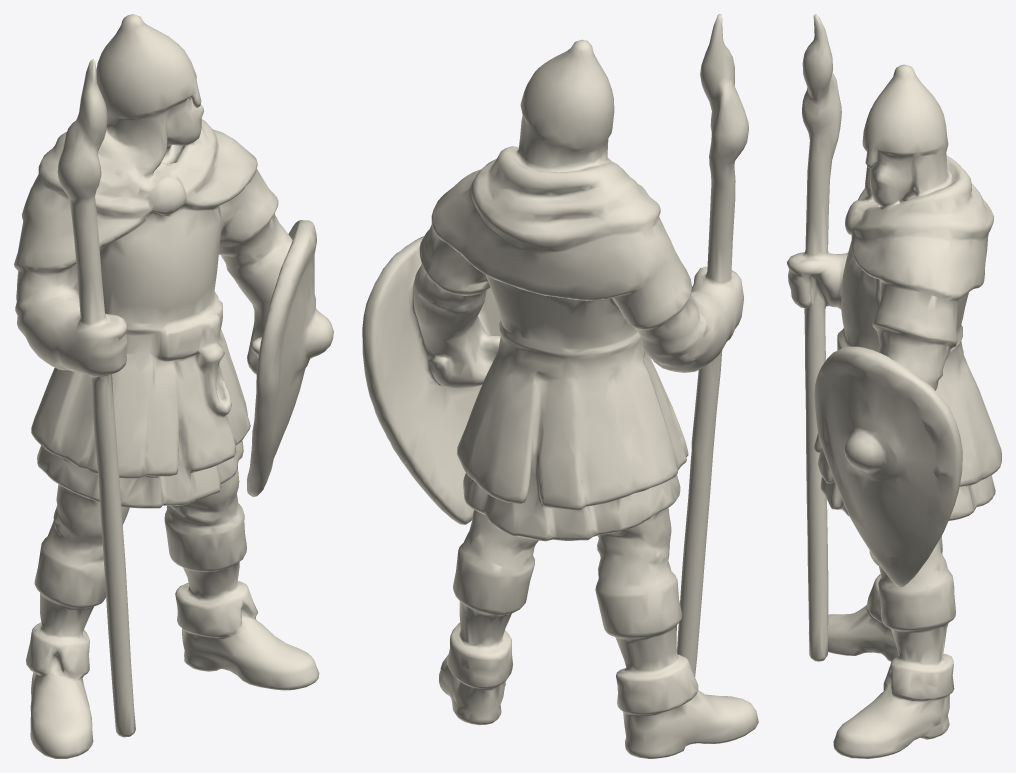
Rendered from ru-peshka.glb.
3 views of the same model, side by side, from view 1: azimuth 30°, elevation 25°; view 2: azimuth 150°, elevation 25°; view 3: azimuth 270°, elevation 25° (orthographic). The views are drawn at different scales.
Visible parts, largest first — view 1: world; view 2: world; view 3: world.
Boxes of the visible parts, <box> form: world: <box>14,14,333,758</box>; world: <box>362,14,758,758</box>; world: <box>787,14,1001,758</box>.
Bounding box in the file's own units: 0.9683 × 1.99 × 0.6078.
